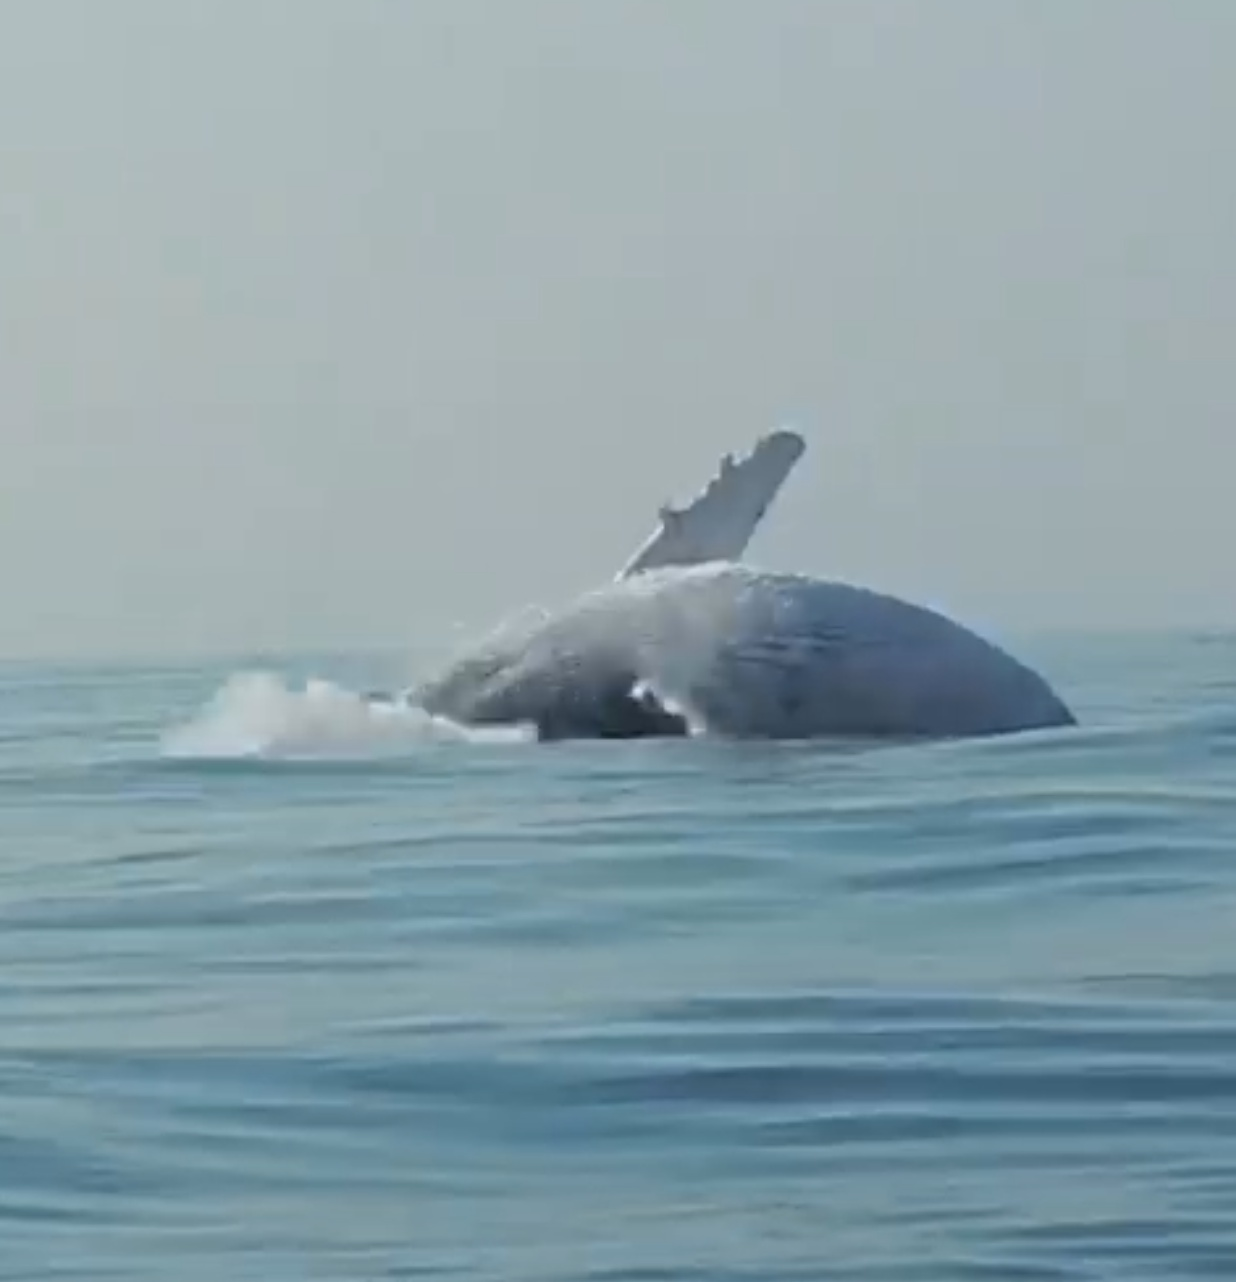humpback: (398, 576, 1085, 737)
